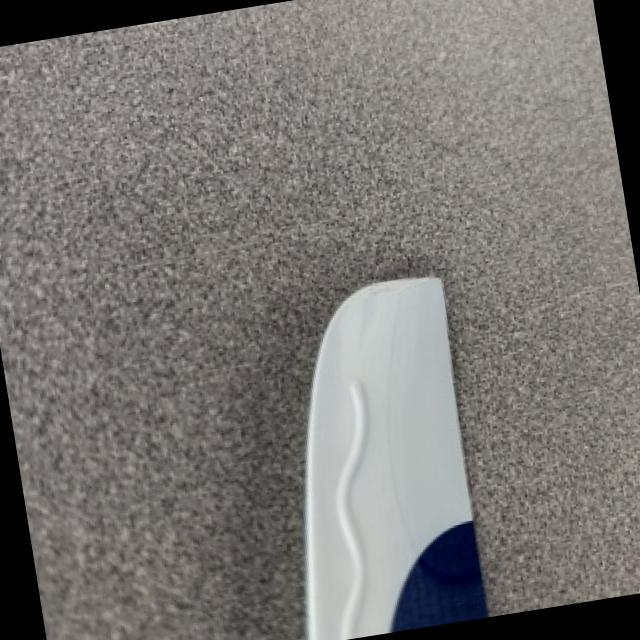healthy: (302, 276, 484, 640)
